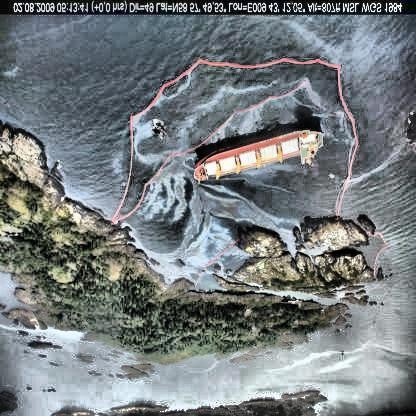sheen: (120, 155, 298, 284)
